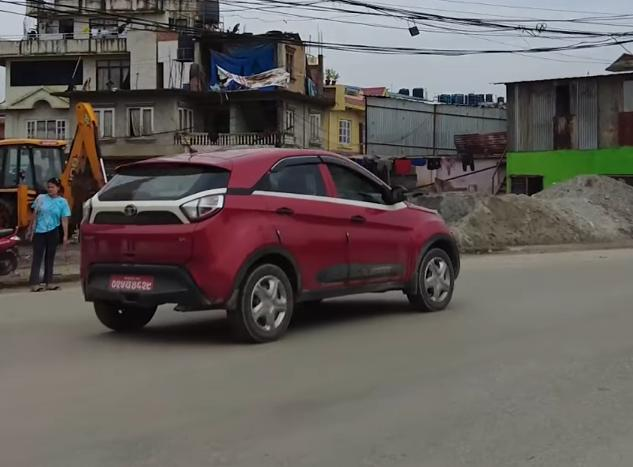car: (64, 133, 468, 339)
